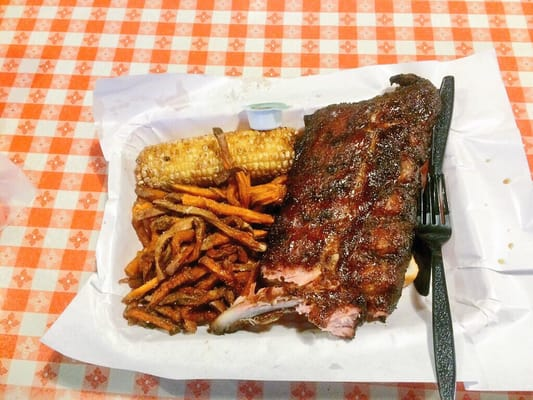soup: (207, 75, 446, 339)
